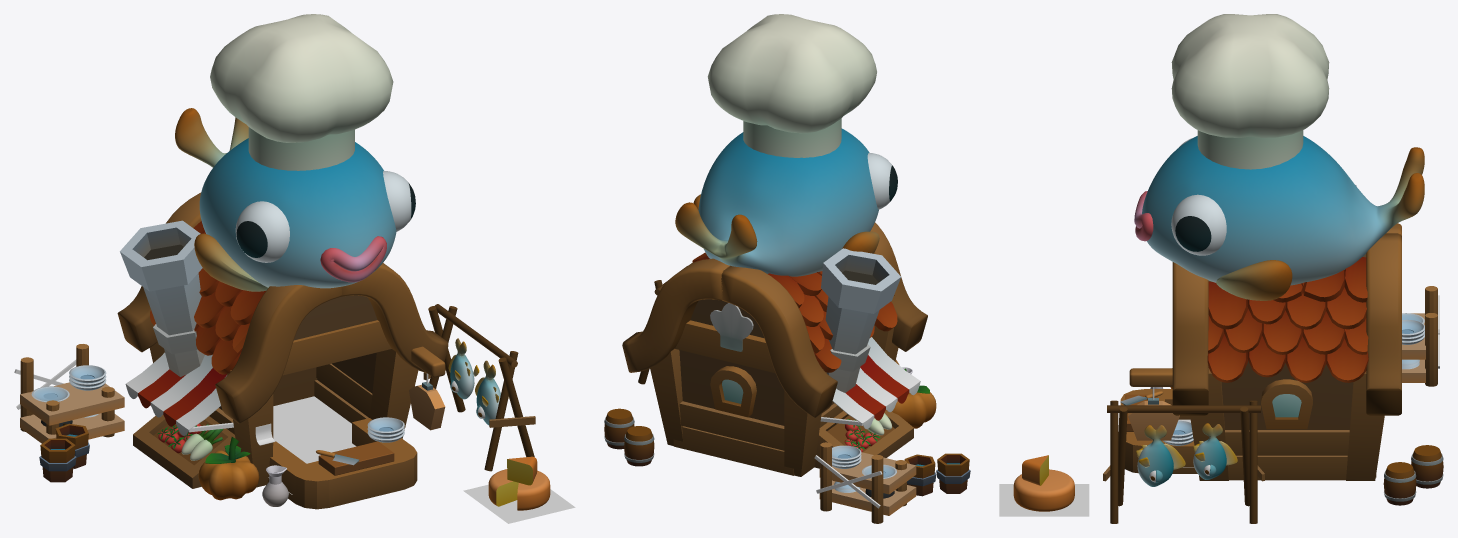
Rendered from Fish house.fbx.
3 renders of one model, left to right at view 1: azimuth 30°, elevation 25°; view 2: azimuth 150°, elevation 25°; view 3: azimuth 270°, elevation 25°, orthographic. The views are drawn at different scales.
Parts seen in each view (by area): view 1: Cube.009, Cube.006, BezierCurve, Cylinder, Cube.005, Cube.003, Roof, Cube, Plane, Sphere, Plane.014, Cube.002 (+24 smaller); view 2: Cube.006, Cube.009, BezierCurve, Cylinder, Cube.004, Cube.003, Cube, Roof, Plane, Cube.002, Cube.008, Cube.011 (+14 smaller); view 3: Cube.006, Cube.009, Roof, BezierCurve, Cube.001, Cube, Cube.003, Sphere, Cube.012, Cube.010, Cylinder.007, Cylinder.008 (+14 smaller).
Boxes of the visible parts, x1=… form: Cube.009: x1=210, y1=14, x2=393, y2=170; Cube.006: x1=175, y1=108, x2=396, y2=288; BezierCurve: x1=117, y1=192, x2=448, y2=423; Cylinder: x1=120, y1=220, x2=204, y2=376; Cube.005: x1=268, y1=418, x2=417, y2=509; Cube.003: x1=149, y1=338, x2=418, y2=487; Roof: x1=150, y1=221, x2=265, y2=374; Cube: x1=219, y1=295, x2=377, y2=417; Plane: x1=126, y1=352, x2=226, y2=430; Sphere: x1=235, y1=171, x2=415, y2=262; Plane.014: x1=268, y1=396, x2=356, y2=494; Cube.002: x1=283, y1=320, x2=391, y2=375; Cube.006: x1=675, y1=128, x2=878, y2=276; Cube.009: x1=707, y1=14, x2=876, y2=157; BezierCurve: x1=622, y1=222, x2=927, y2=417; Cylinder: x1=821, y1=248, x2=900, y2=392; Cube.004: x1=673, y1=401, x2=794, y2=475; Cube.003: x1=650, y1=325, x2=898, y2=476; Cube: x1=679, y1=299, x2=834, y2=425; Roof: x1=692, y1=252, x2=897, y2=372; Plane: x1=832, y1=337, x2=919, y2=423; Cube.002: x1=675, y1=320, x2=775, y2=373; Cube.008: x1=814, y1=410, x2=913, y2=468; Cube.011: x1=710, y1=366, x2=756, y2=417; Cube.006: x1=1142, y1=136, x2=1424, y2=285; Cube.009: x1=1171, y1=14, x2=1329, y2=169; Roof: x1=1207, y1=257, x2=1368, y2=382; BezierCurve: x1=1172, y1=223, x2=1401, y2=415; Cube.001: x1=1225, y1=430, x2=1349, y2=480; Cube: x1=1208, y1=254, x2=1366, y2=429; Cube.003: x1=1190, y1=368, x2=1384, y2=480; Sphere: x1=1171, y1=138, x2=1226, y2=255; Cube.012: x1=1261, y1=379, x2=1312, y2=429; Cube.010: x1=1216, y1=260, x2=1292, y2=300; Cylinder.007: x1=1110, y1=400, x2=1257, y2=523; Cylinder.008: x1=1013, y1=469, x2=1074, y2=511.
Size of what is drawn, in the model's own units: 571 by 601 by 572.
